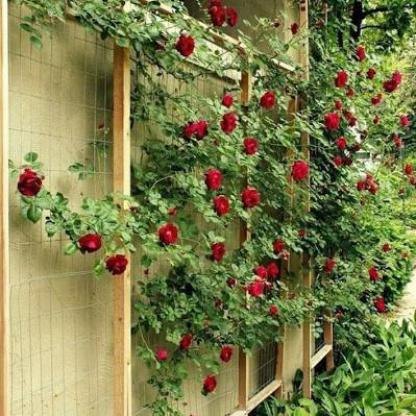Rose-Mawar: (155, 5, 413, 408), (15, 156, 173, 280)
